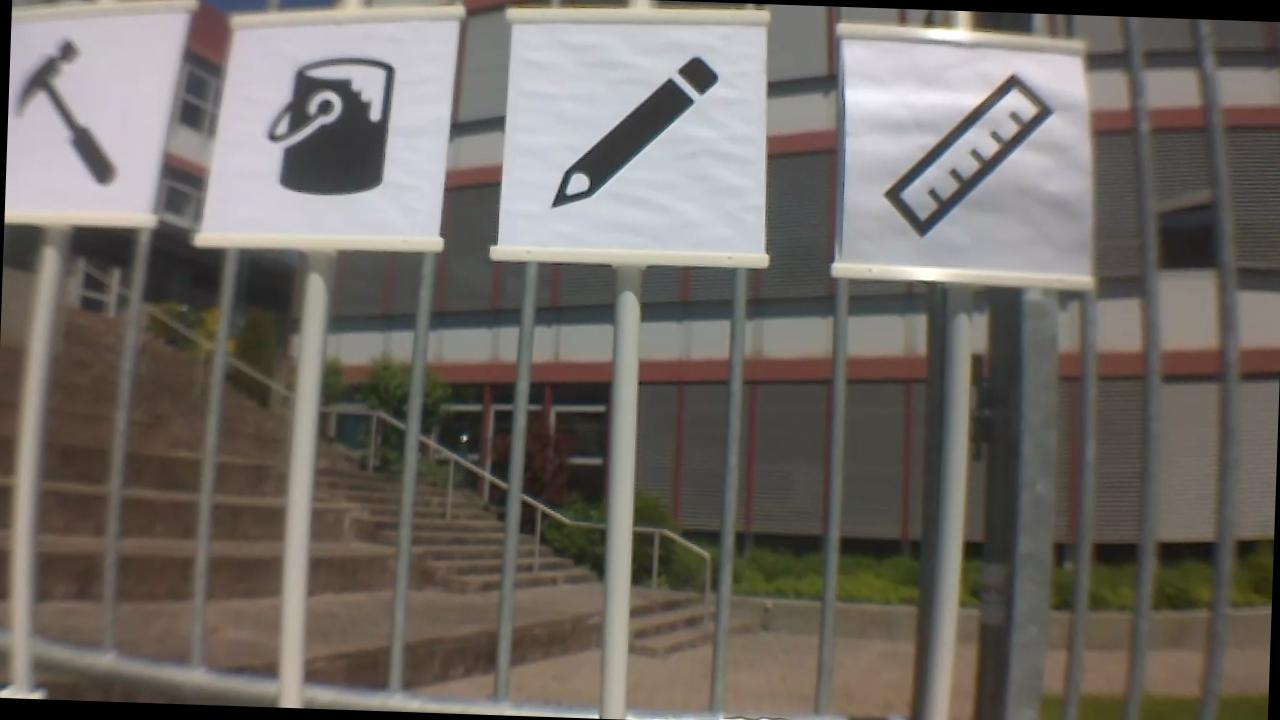bucket: (264, 46, 400, 202)
hammer: (5, 19, 164, 188)
pencil: (549, 41, 725, 215)
ruler: (883, 65, 1063, 244)
